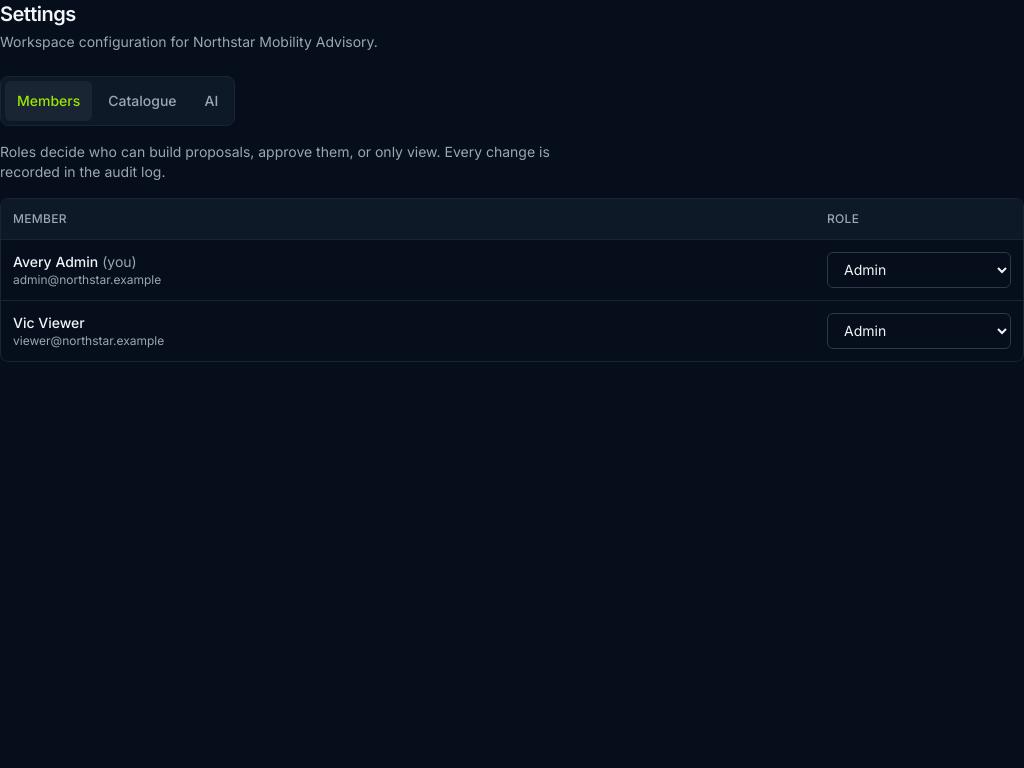
SettingsPage › explains the last-Admin rule when the API rejects a demotion
Step 1. Select "Viewer" in the dropdown named "Role for Vic Viewer" → (919, 330), box [827,312,1011,348]
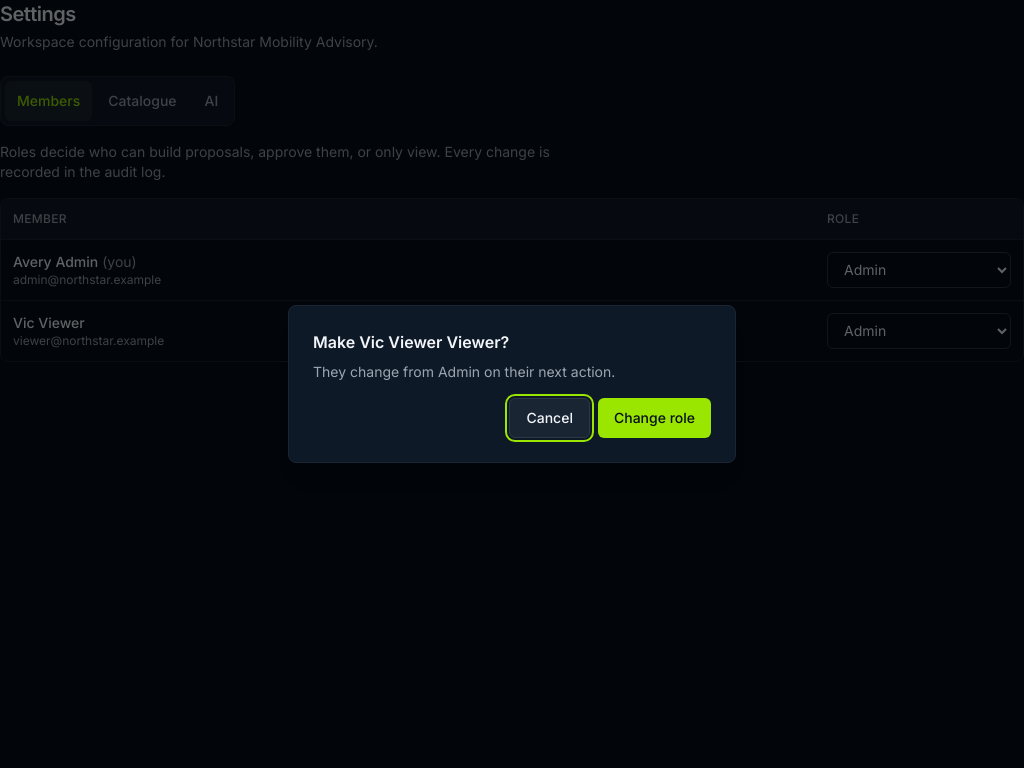
Step 2. Click the button "Change role" → (654, 418), box [598,398,711,438]
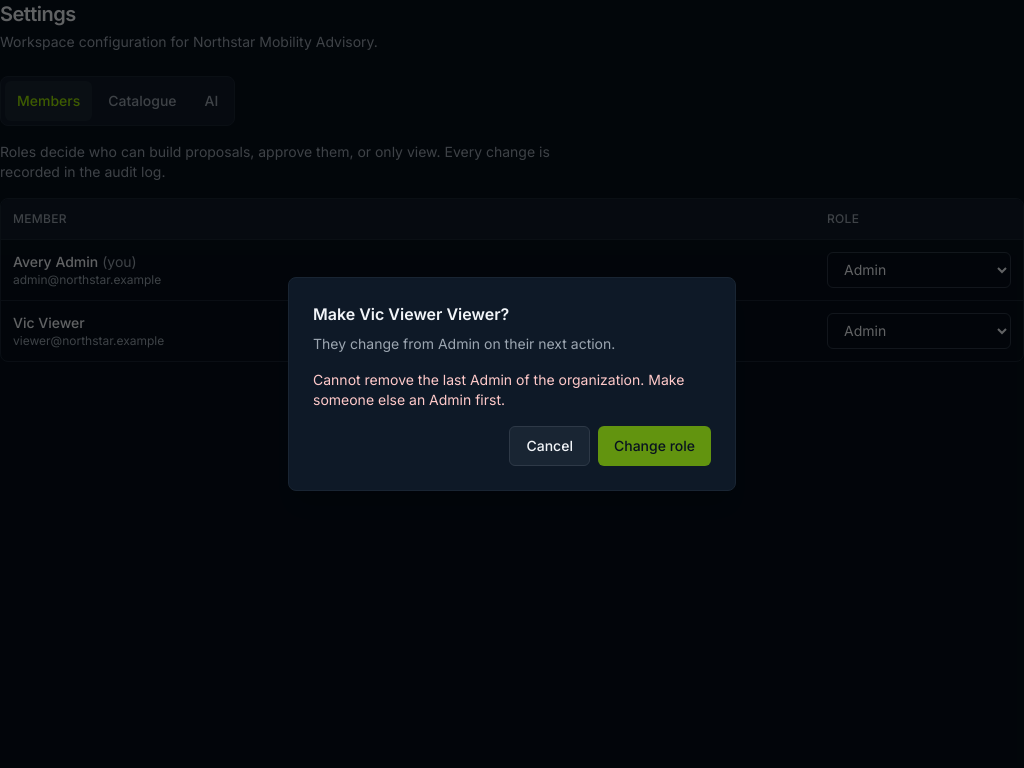
Now the text "Cannot remove the last Admin of the organization. Make someone else an Admin first." is shown, box [313,371,684,408]
